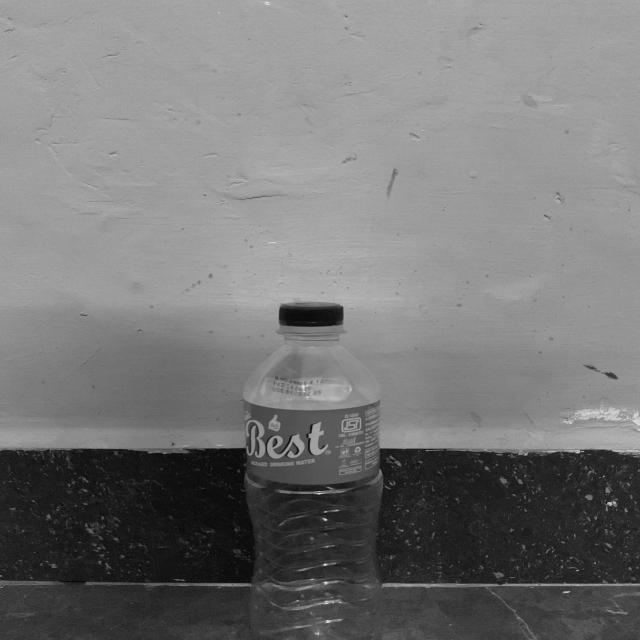Good-cap-Df0S: (274, 300, 350, 337)
